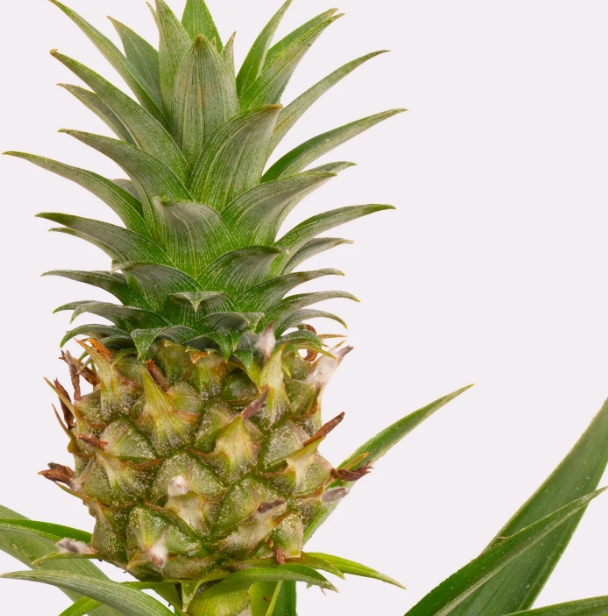pineapple: (24, 10, 363, 587)
